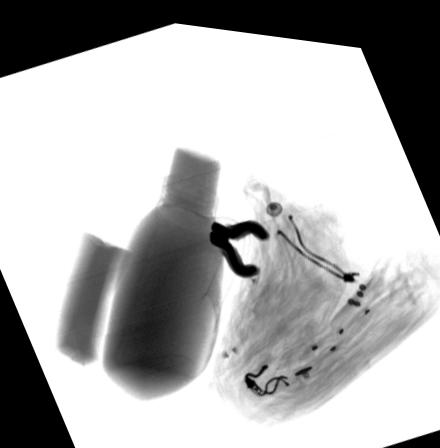Pliers: (208, 211, 271, 272)
